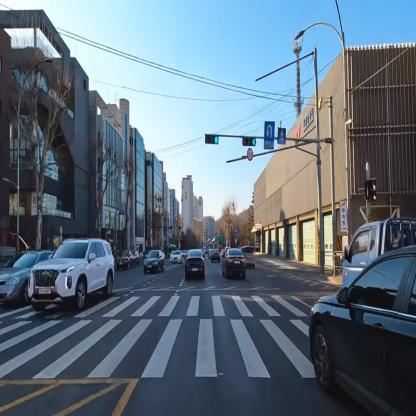Green: (203, 133, 219, 145), (243, 136, 257, 148)
